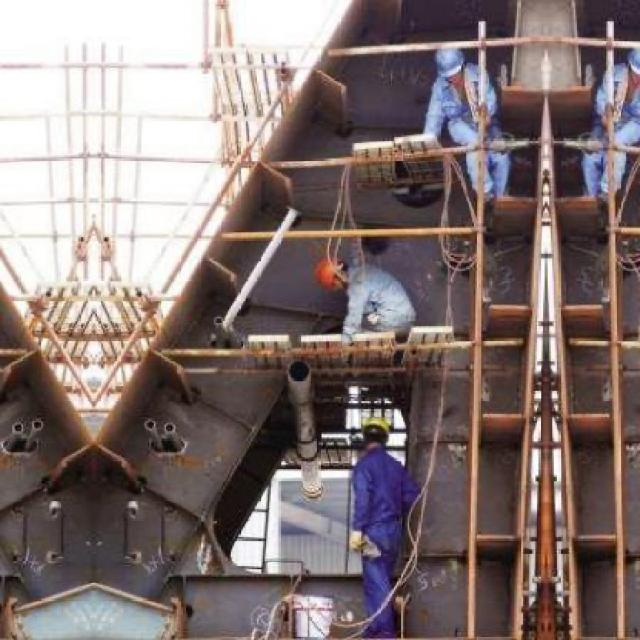helmet: (432, 43, 468, 89), (357, 412, 397, 451), (312, 257, 352, 291), (622, 43, 638, 91)
